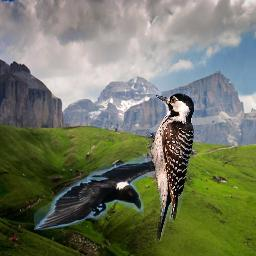Crow: (34, 140, 190, 230)
Woodpecker: (146, 89, 197, 245)
